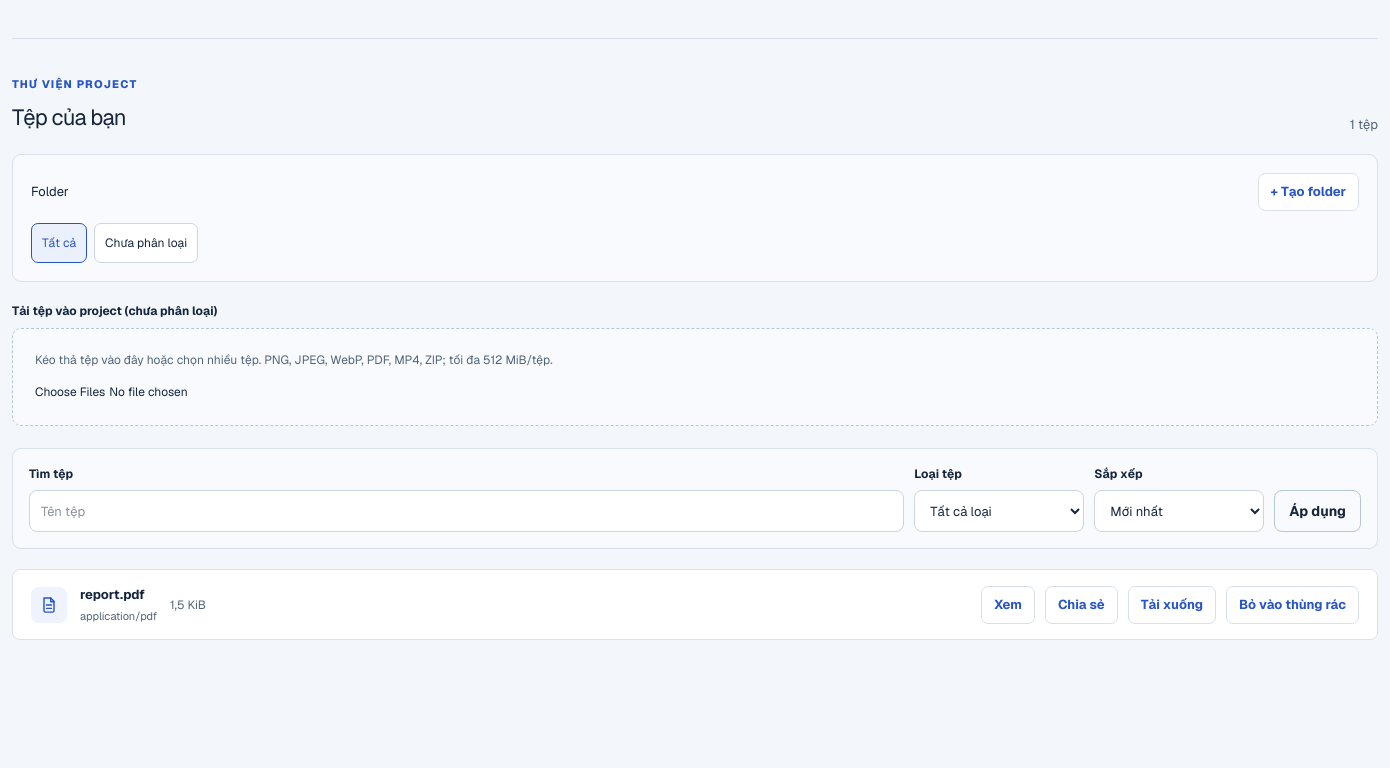
FileExplorer › requires inline confirmation before moving a file to trash and refreshes the list
Expected: the text "report.pdf" is shown, [80,586,145,603]
Click the button with aria-label "Chuyển report.pdf vào thùng rác": click(1292, 604) [1226,586,1359,624]
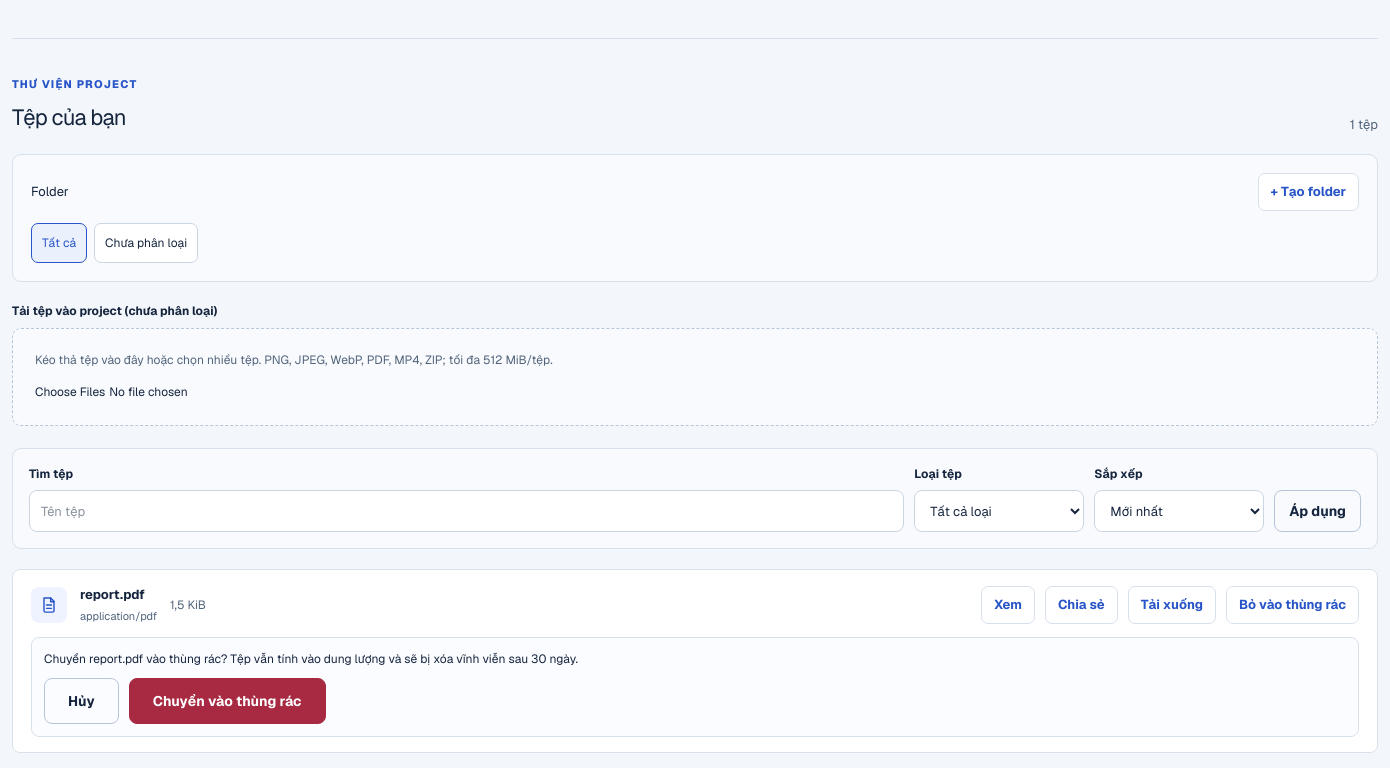
Click the button "Hủy": click(81, 701) [44,678,119,724]
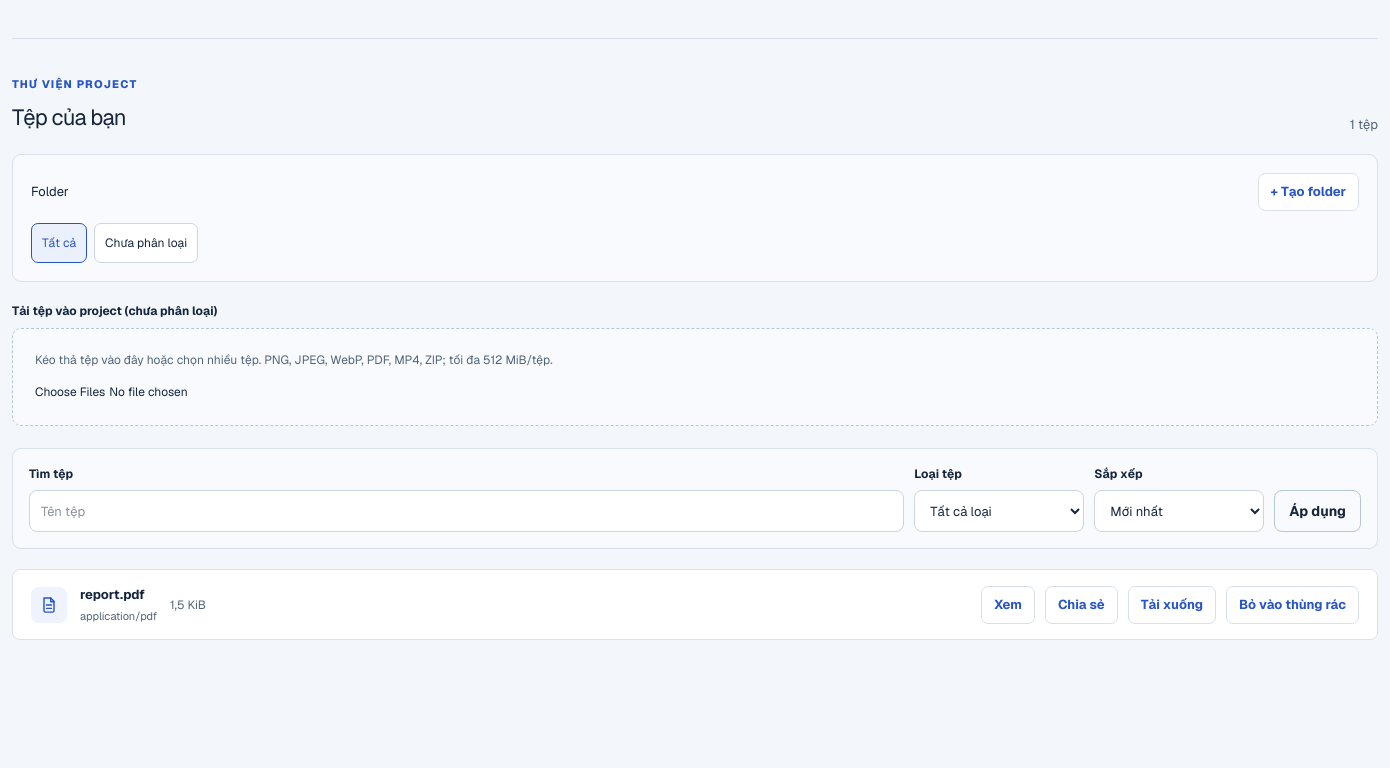
Click the button with aria-label "Chuyển report.pdf vào thùng rác": click(1292, 604) [1226,586,1359,624]
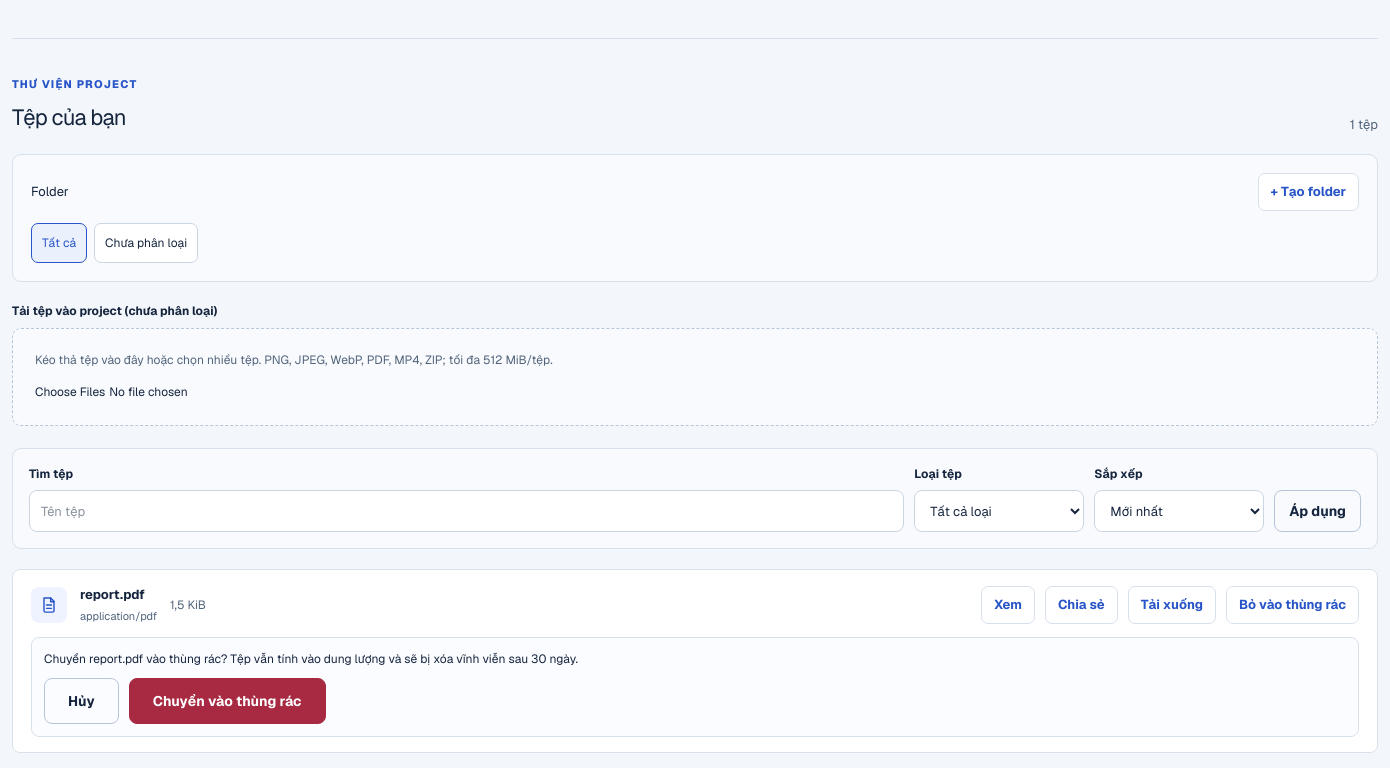
Click the button "Chuyển vào thùng rác": click(227, 701) [129,678,326,724]
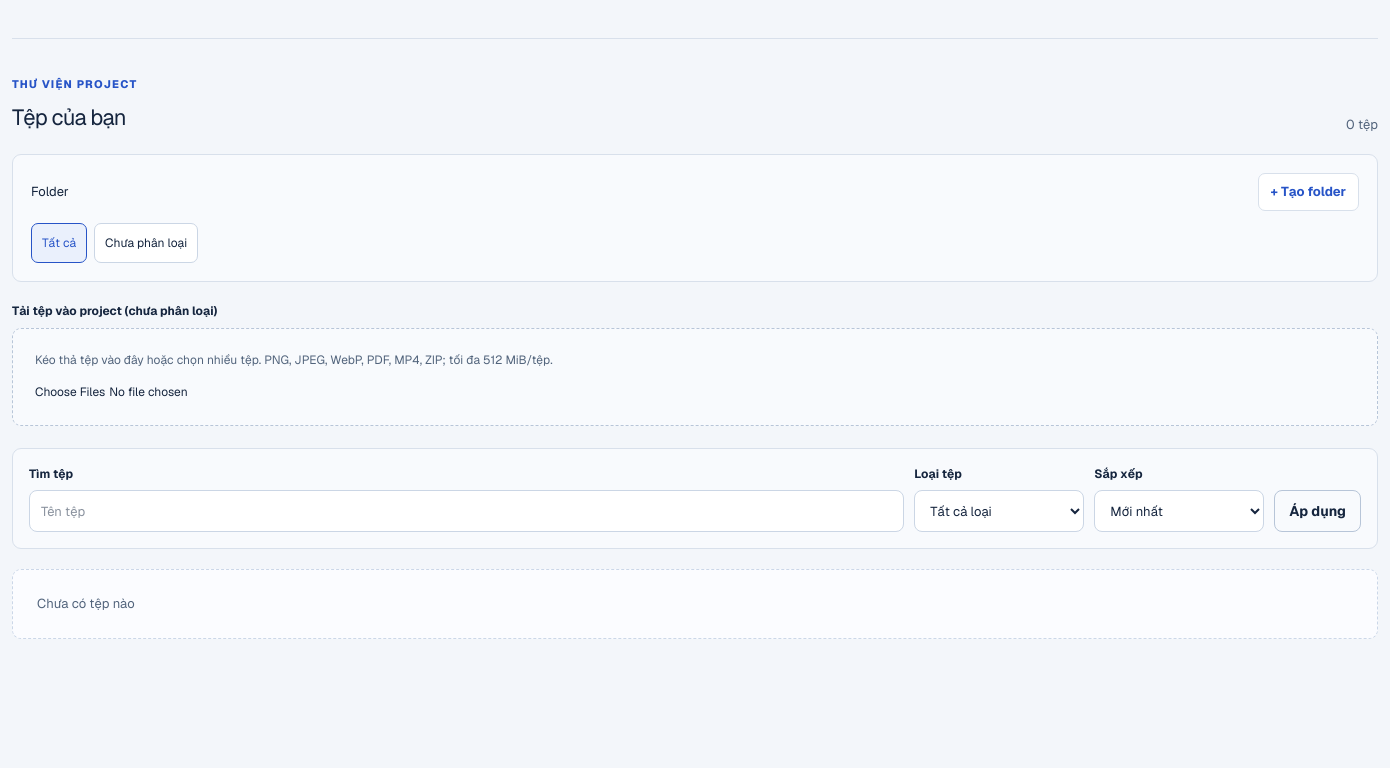
Expected: the text "Chưa có tệp nào" is shown, [12,569,1378,638]
